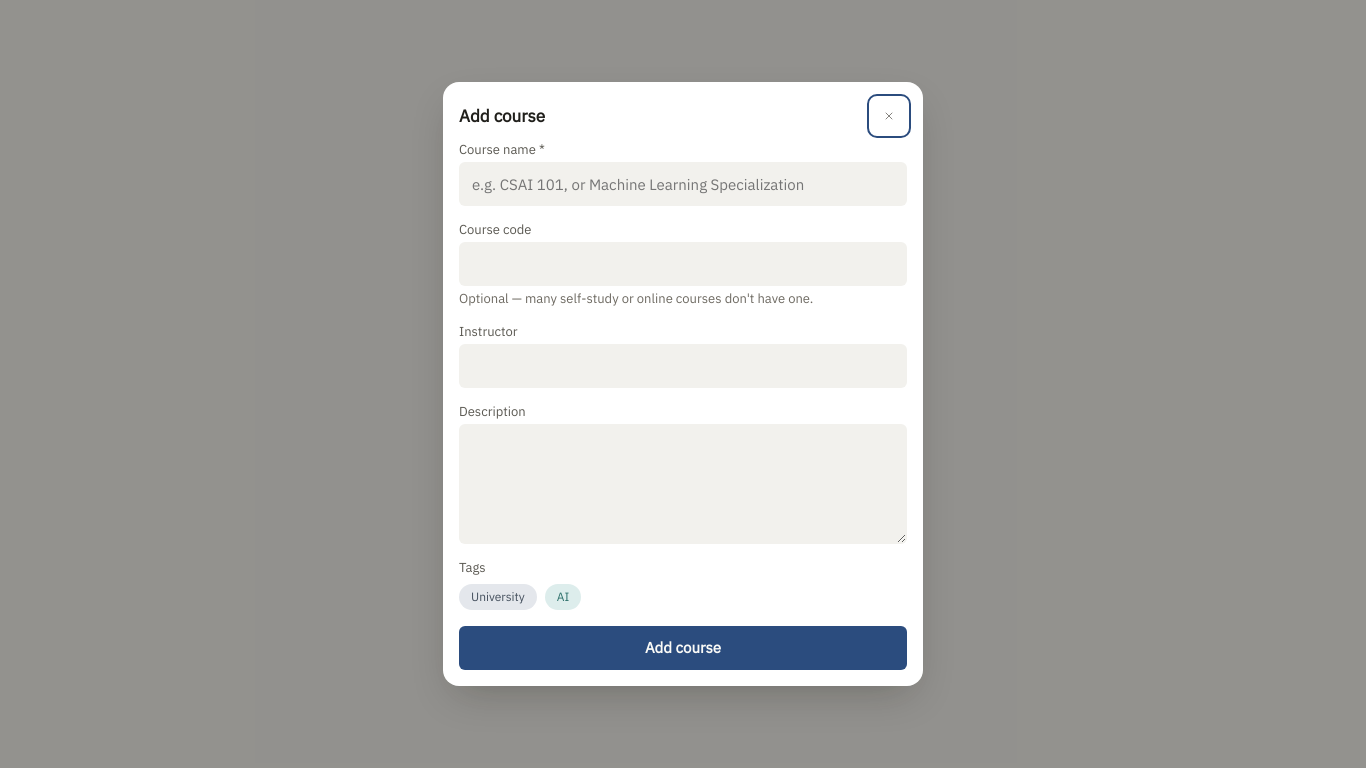
Test: CourseFormSheet › requires a course name before submitting — code stays optional
Click the button "Add course": (683, 648) [459,626,907,670]
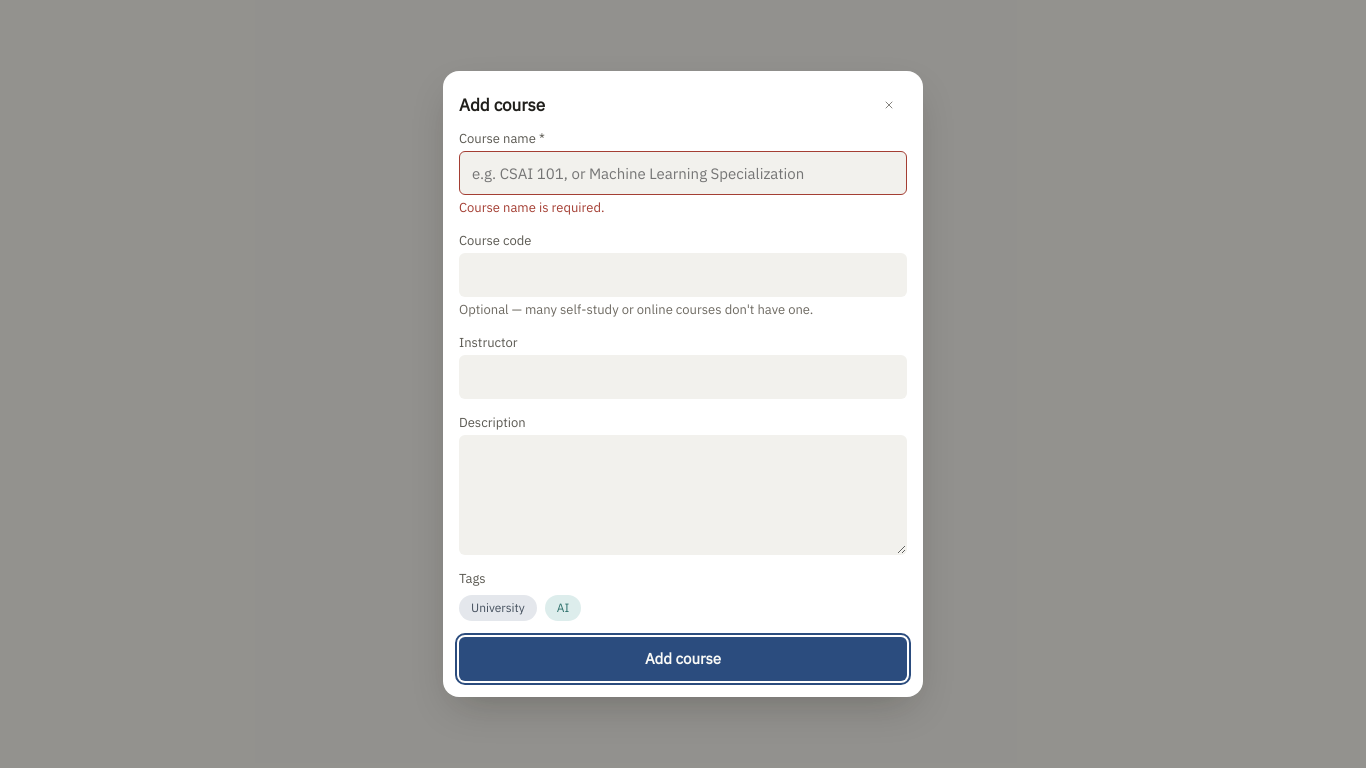
Now the text "Course name is required." is shown, box [459,199,604,216]
